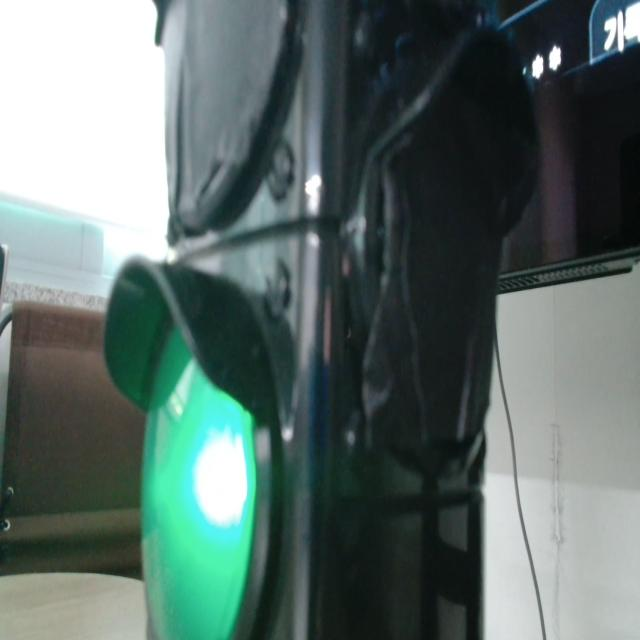green_light: (142, 331, 255, 639)
